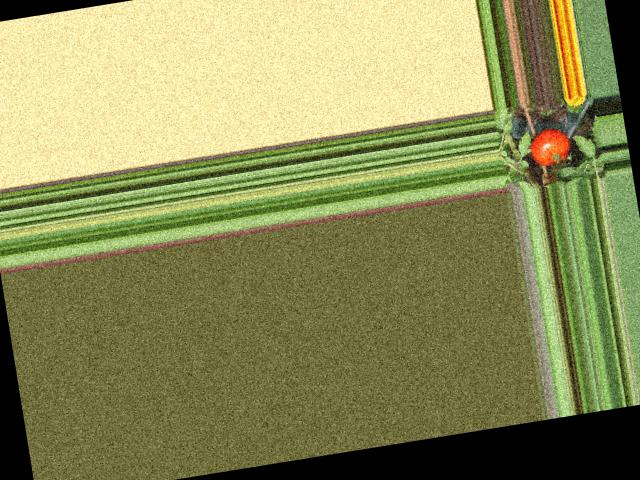tomato: (526, 126, 572, 168)
